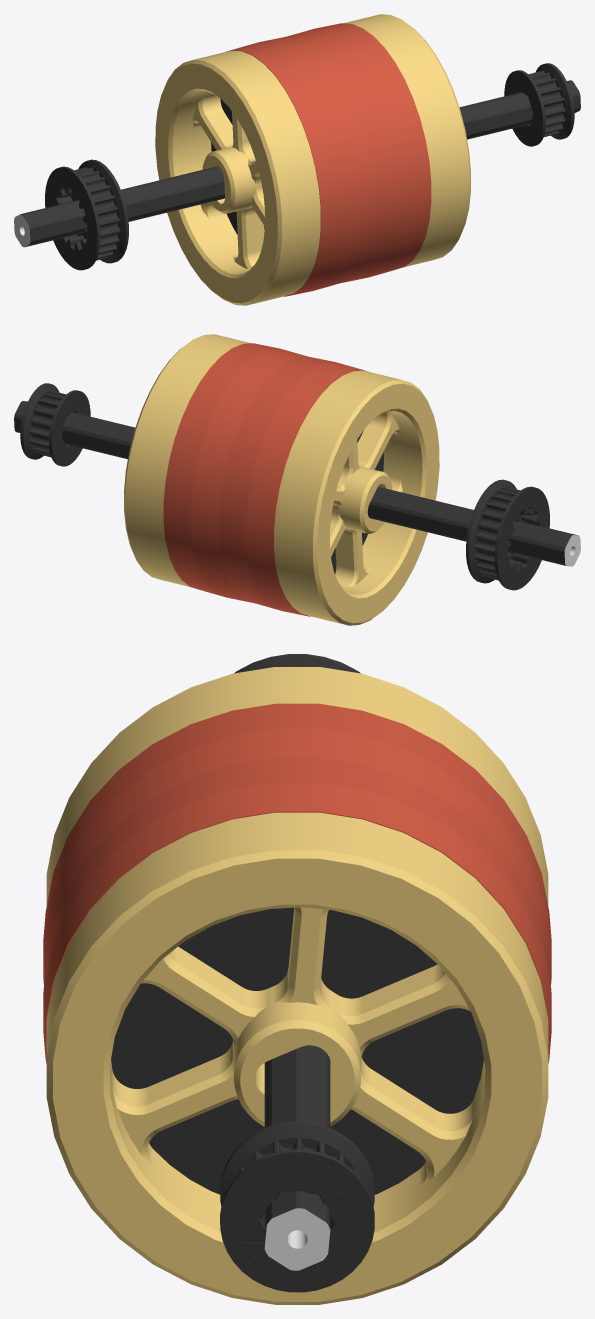
3 views of the same model, one above another, from view 1: azimuth 30°, elevation 25°; view 2: azimuth 150°, elevation 25°; view 3: azimuth 270°, elevation 25° (orthographic). The views are drawn at different scales.
Visible parts, largest first — view 1: 4" Brass Flywheel (1/2" Triangle Bore) (×2), 4" Stealth Wheel (40A, 1/2" Hex Bore) (×2), 1/2" Rounded Hex (9.9709"L 13.75mm OD), 24t Custom HTD 5mm Pulley (0.375" Wide, 1/2" Hex Bore w/ TTB, 17t Custom HTD 5mm Pulley (0.375" Wide, 1/2" Hex Bore w/ TTB; view 2: 4" Brass Flywheel (1/2" Triangle Bore) (×2), 4" Stealth Wheel (40A, 1/2" Hex Bore) (×2), 1/2" Rounded Hex (9.9709"L 13.75mm OD), 24t Custom HTD 5mm Pulley (0.375" Wide, 1/2" Hex Bore w/ TTB, 17t Custom HTD 5mm Pulley (0.375" Wide, 1/2" Hex Bore w/ TTB; view 3: 4" Brass Flywheel (1/2" Triangle Bore) (×2), 4" Stealth Wheel (40A, 1/2" Hex Bore) (×2), 17t Custom HTD 5mm Pulley (0.375" Wide, 1/2" Hex Bore w/ TTB, 1/2" Rounded Hex (9.9709"L 13.75mm OD), 24t Custom HTD 5mm Pulley (0.375" Wide, 1/2" Hex Bore w/ TTB.
Part boxes in pixels (x1=…): 4" Brass Flywheel (1/2" Triangle Bore) (×2): x1=155, y1=14, x2=470, y2=305; 4" Stealth Wheel (40A, 1/2" Hex Bore) (×2): x1=211, y1=23, x2=431, y2=296; 1/2" Rounded Hex (9.9709"L 13.75mm OD): x1=14, y1=80, x2=580, y2=247; 24t Custom HTD 5mm Pulley (0.375" Wide, 1/2" Hex Bore w/ TTB: x1=45, y1=159, x2=128, y2=270; 17t Custom HTD 5mm Pulley (0.375" Wide, 1/2" Hex Bore w/ TTB: x1=504, y1=63, x2=574, y2=146; 4" Brass Flywheel (1/2" Triangle Bore) (×2): x1=124, y1=334, x2=439, y2=625; 4" Stealth Wheel (40A, 1/2" Hex Bore) (×2): x1=163, y1=343, x2=383, y2=616; 1/2" Rounded Hex (9.9709"L 13.75mm OD): x1=14, y1=401, x2=580, y2=566; 24t Custom HTD 5mm Pulley (0.375" Wide, 1/2" Hex Bore w/ TTB: x1=466, y1=479, x2=549, y2=590; 17t Custom HTD 5mm Pulley (0.375" Wide, 1/2" Hex Bore w/ TTB: x1=20, y1=383, x2=90, y2=466; 4" Brass Flywheel (1/2" Triangle Bore) (×2): x1=46, y1=667, x2=548, y2=1304; 4" Stealth Wheel (40A, 1/2" Hex Bore) (×2): x1=43, y1=703, x2=551, y2=1194; 17t Custom HTD 5mm Pulley (0.375" Wide, 1/2" Hex Bore w/ TTB: x1=220, y1=1121, x2=374, y2=1292; 1/2" Rounded Hex (9.9709"L 13.75mm OD): x1=264, y1=1045, x2=330, y2=1270; 24t Custom HTD 5mm Pulley (0.375" Wide, 1/2" Hex Bore w/ TTB: x1=234, y1=654, x2=360, y2=673.
Size of the model in its own units: 0.2533 by 0.1012 by 0.1012.
